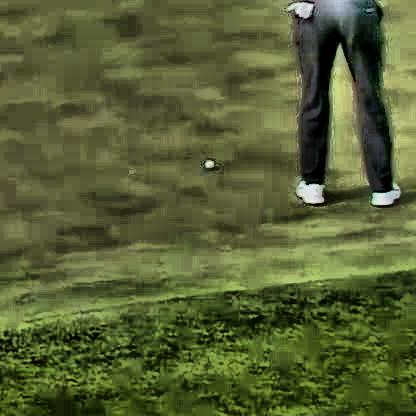golfball: (202, 154, 212, 165)
